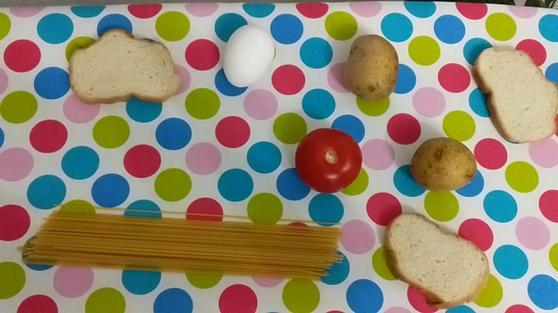egg: (219, 18, 282, 93)
potato: (336, 25, 412, 100), (399, 138, 492, 193)
spaghetti: (12, 199, 350, 284)
tomato: (291, 125, 369, 196)
white_bread: (372, 200, 509, 313), (469, 35, 558, 147), (66, 25, 185, 107)
